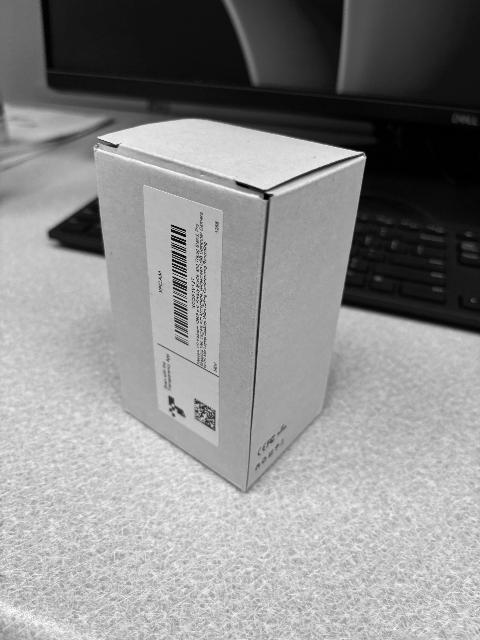CameraBox1: (93, 119, 366, 494)
